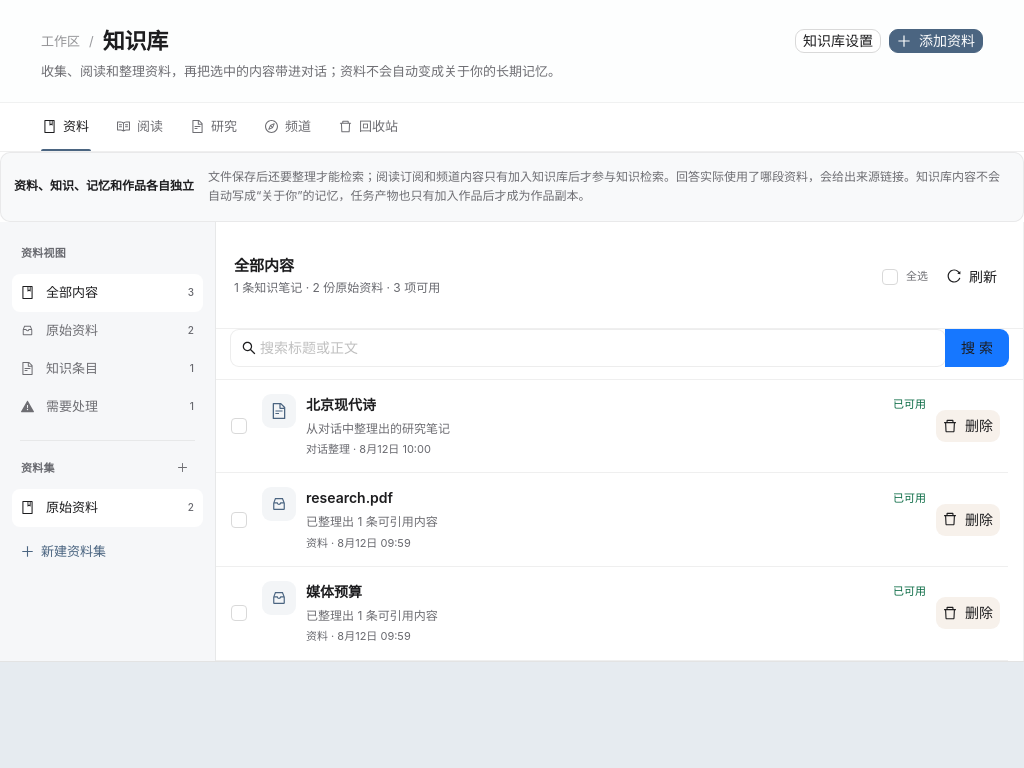
Knowledge workspace › uses one add entry for files and webpages
Click the button "添加资料" at (936, 41), box 889,29 -> 983,53
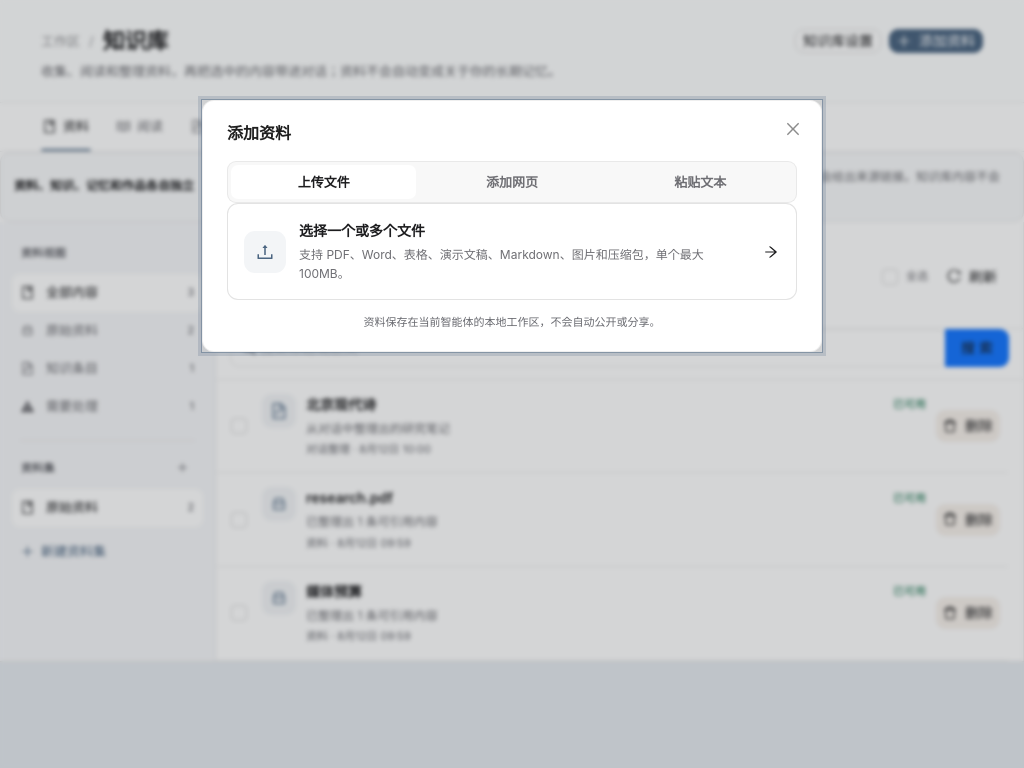
Now the dialog "添加资料" is shown, box 202,100 -> 822,376
Now the button with aria-label "上传文件" is shown, box 227,203 -> 797,300
Click the tab "添加网页" at (512, 182), box 419,165 -> 605,199
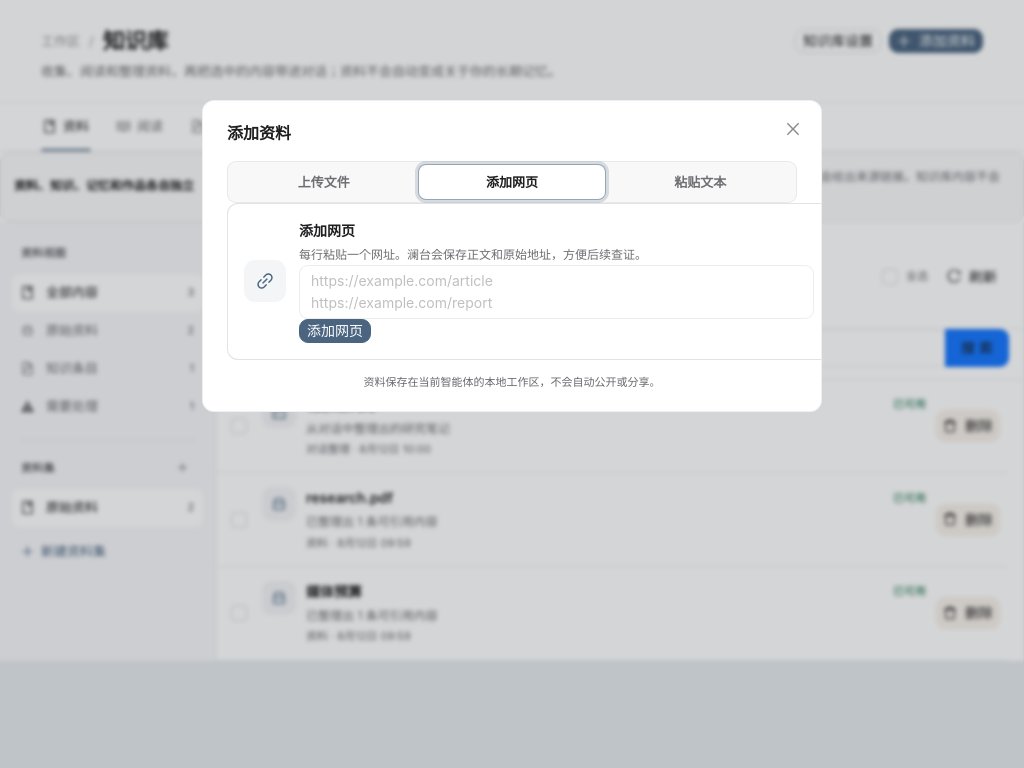
Now the button "添加网页" is shown, box 299,319 -> 371,343
